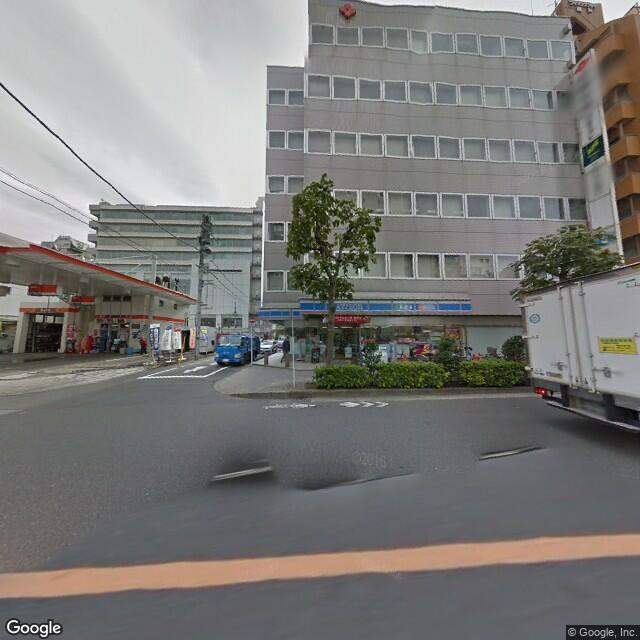lawson: (297, 293, 474, 315), (254, 303, 306, 321)
